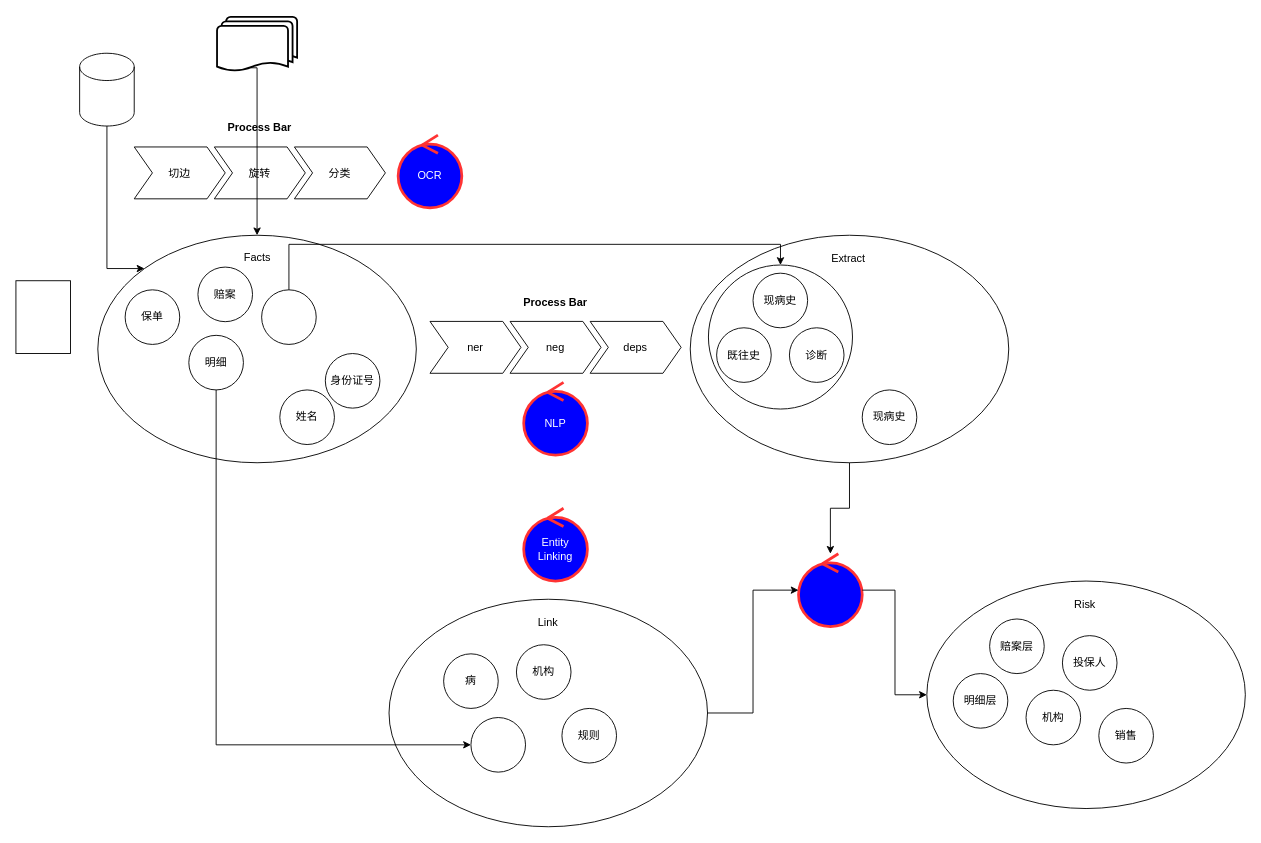
Some shapes in this 1261 by 843 pixel diagram are drawn without their labels. Here are the shapes that lost their labels. From the top down, the box of each, then its label:
(216, 15, 298, 72): 影像件
(79, 52, 134, 126): 接口对接
(15, 280, 71, 354): center data model
(261, 289, 316, 344): 病历
(797, 552, 863, 627): 风控
(470, 717, 526, 772): 三目录
